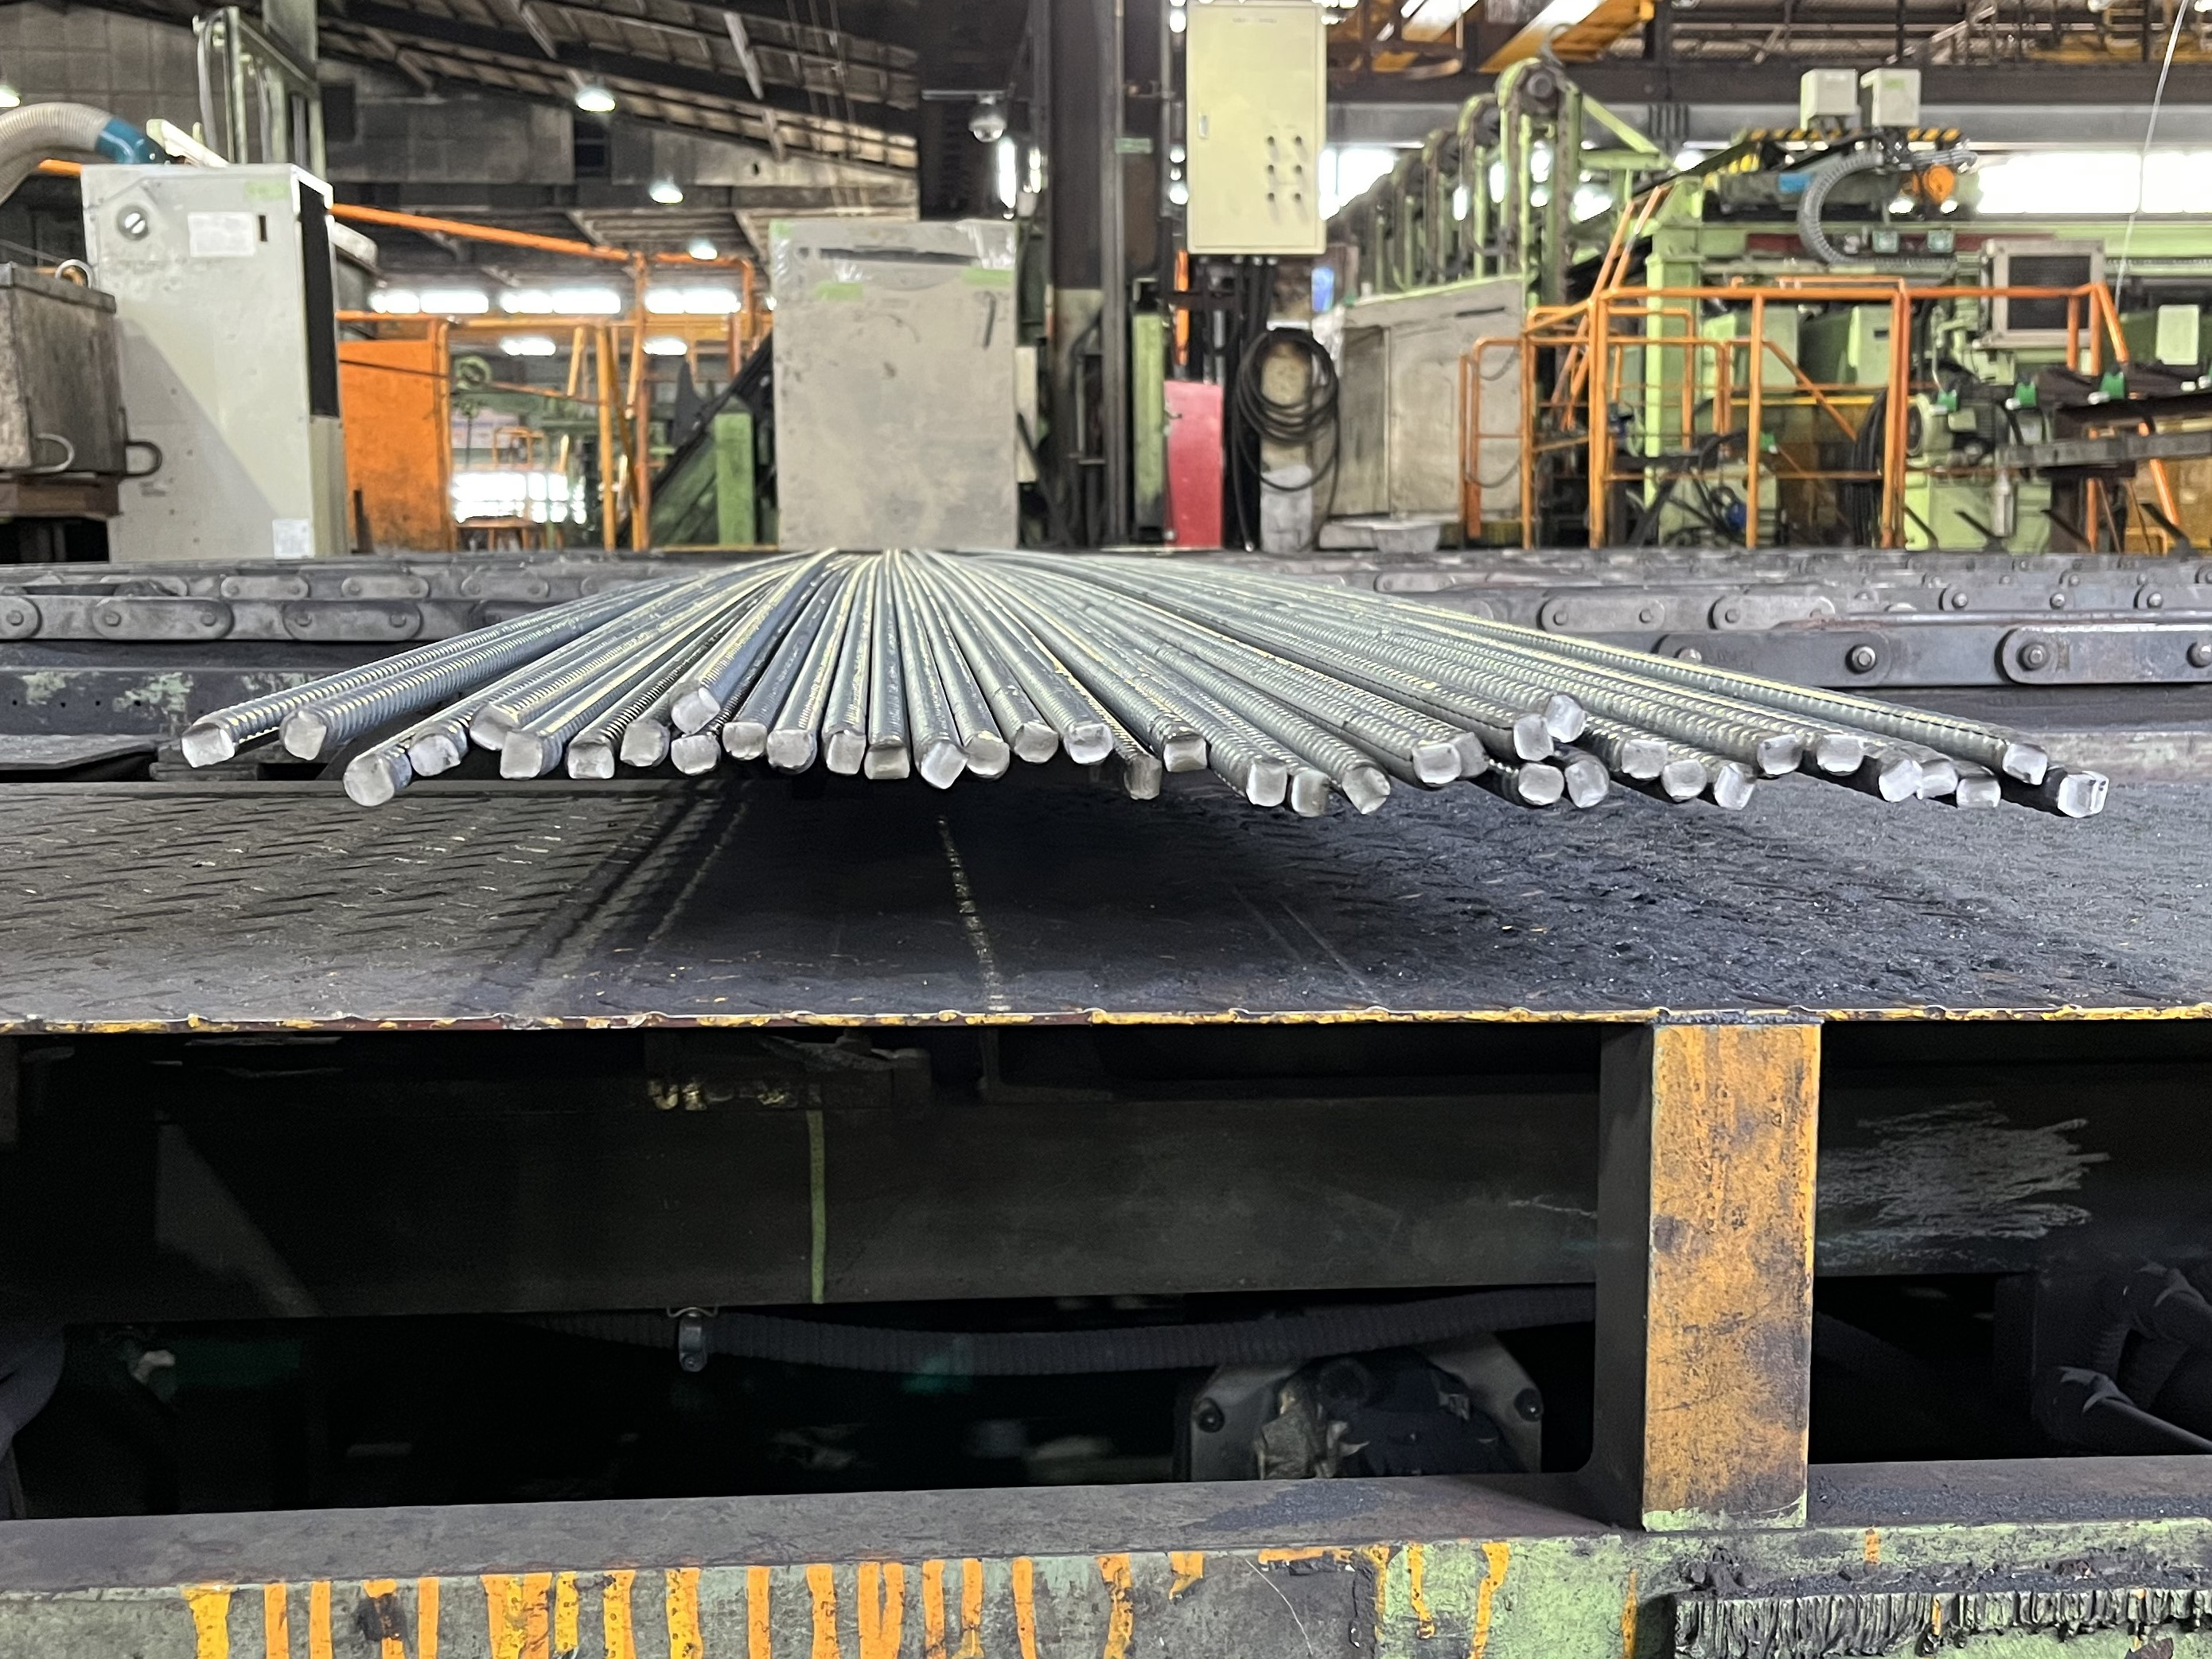rod: (341, 753, 397, 809), (1339, 762, 1392, 816), (178, 723, 237, 770), (277, 709, 329, 762), (467, 702, 521, 751), (406, 732, 462, 779), (498, 730, 549, 781), (1411, 739, 1463, 788), (765, 728, 819, 775), (918, 741, 968, 789), (669, 687, 721, 734), (563, 737, 618, 779), (1876, 756, 1925, 803), (2000, 741, 2048, 788), (1541, 692, 1587, 742), (1618, 737, 1670, 781), (1712, 760, 1756, 812), (1245, 756, 1287, 810), (1660, 755, 1707, 802), (620, 720, 665, 769), (1012, 720, 1061, 765), (1066, 721, 1115, 767), (1564, 760, 1609, 809), (1815, 732, 1864, 777), (1289, 769, 1332, 819), (1515, 763, 1566, 807), (965, 730, 1010, 777), (1162, 732, 1211, 775), (1756, 734, 1804, 777), (1514, 713, 1555, 763), (672, 734, 719, 777), (721, 720, 770, 762), (862, 741, 911, 782), (1122, 753, 1163, 802), (1449, 730, 1491, 779), (1914, 756, 1959, 800), (826, 728, 866, 777), (2055, 770, 2095, 816), (1954, 774, 2003, 810)
